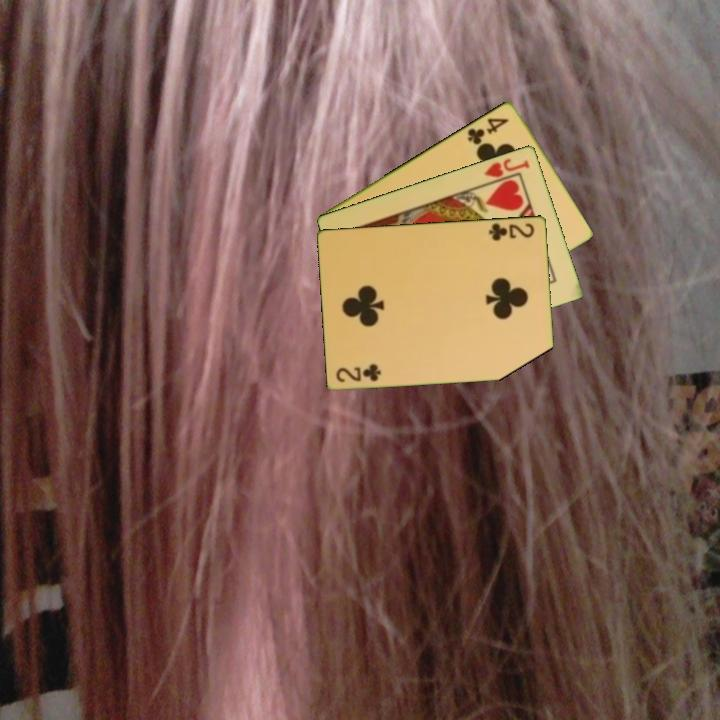2c: (485, 219, 537, 243), (333, 361, 384, 385)
4c: (464, 114, 512, 147)
Jh: (480, 154, 533, 187)
